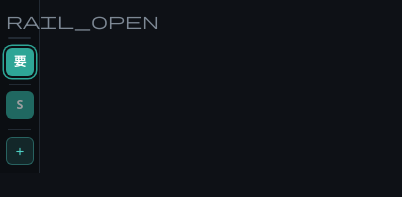
Scenario: 帯の札を指したとき › しばらく指していると中身の札を出し、離れると消す
Hover over the button "S" at (20, 105), box [4,89,35,121]
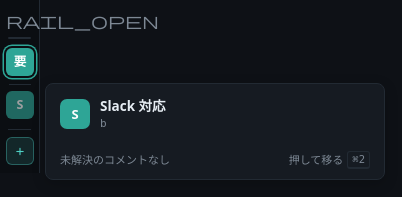
Result: the tooltip with class "mg-wscard" shows "Slack 対応" at [100,97,166,115]
Move the pointer off the button "S", box [4,89,35,121]
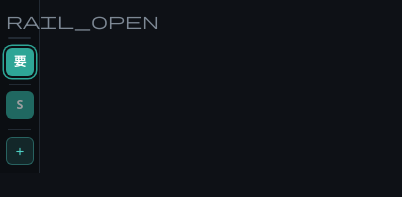
Result: the tooltip with class "mg-wscard" is gone
